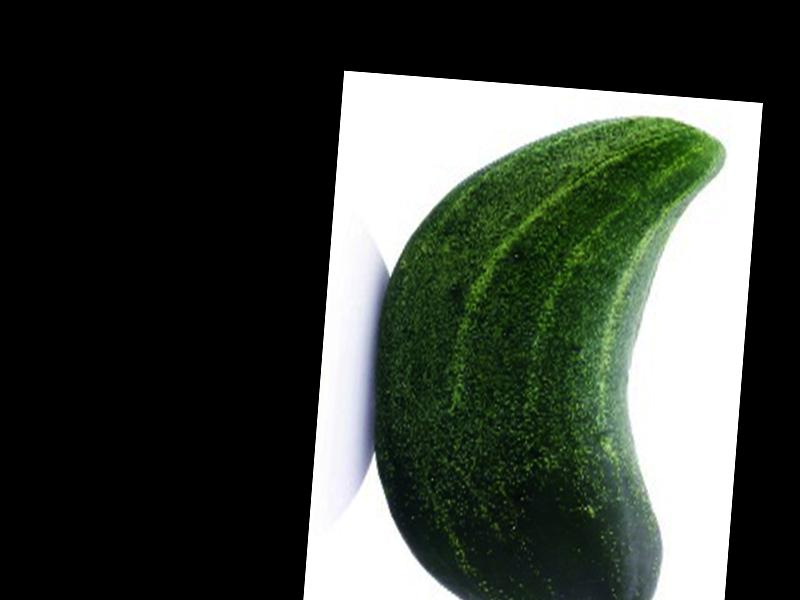Cucumber: (357, 94, 726, 600)
